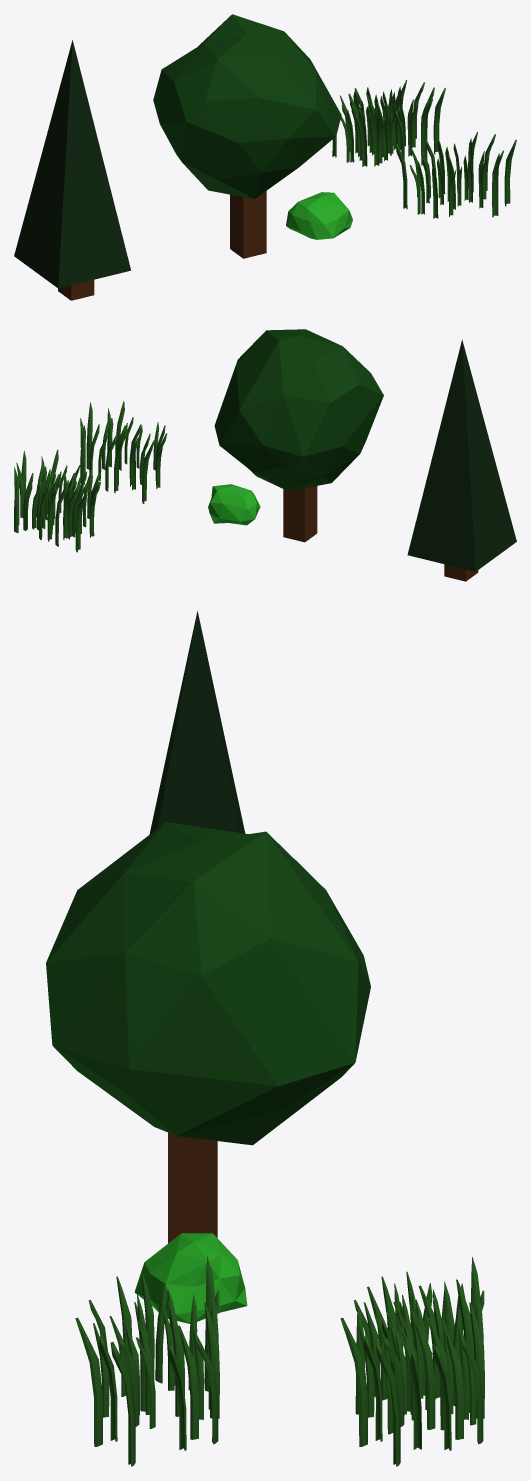
The model's file is ROŚLINNOŚĆ.FBX.
3 views of the same model, one above another, from view 1: azimuth 30°, elevation 25°; view 2: azimuth 150°, elevation 25°; view 3: azimuth 270°, elevation 25° (orthographic). The views are drawn at different scales.
Parts seen in each view (by area): view 1: GeoSphere001, Pyramid001, GeoSphere002, Box002, Box001, Box049, Box040, Box128, Box126; view 2: GeoSphere001, Pyramid001, Box002, GeoSphere002, Box001, Box098, Box040, Box034; view 3: GeoSphere001, Pyramid001, GeoSphere002, Box002, Box049, Box126, Box128, Box040, Box076, Box120, Box063.
Boxes of the visible parts, x1,y1,x2,y2 form: GeoSphere001: (153, 14, 341, 198); Pyramid001: (14, 40, 130, 288); GeoSphere002: (286, 192, 352, 239); Box002: (230, 191, 266, 258); Box001: (58, 280, 94, 300); Box049: (492, 153, 499, 217); Box040: (504, 139, 516, 206); Box128: (433, 88, 445, 154); Box126: (421, 101, 428, 165); GeoSphere001: (214, 329, 383, 491); Pyramid001: (407, 339, 516, 571); Box002: (283, 486, 317, 542); GeoSphere002: (208, 484, 260, 525); Box001: (444, 564, 478, 581); Box098: (75, 489, 88, 552); Box040: (86, 402, 92, 469); Box034: (142, 440, 154, 503); GeoSphere001: (46, 822, 370, 1145); Pyramid001: (149, 611, 245, 834); GeoSphere002: (134, 1233, 247, 1323); Box002: (168, 1132, 217, 1243); Box049: (75, 1318, 102, 1446); Box126: (340, 1318, 367, 1446); Box128: (375, 1342, 400, 1466); Box040: (110, 1342, 135, 1466); Box076: (412, 1315, 435, 1429); Box120: (443, 1325, 464, 1439); Box063: (178, 1325, 198, 1439).
Size of the model in its own units: 156 by 82.97 by 69.35.
